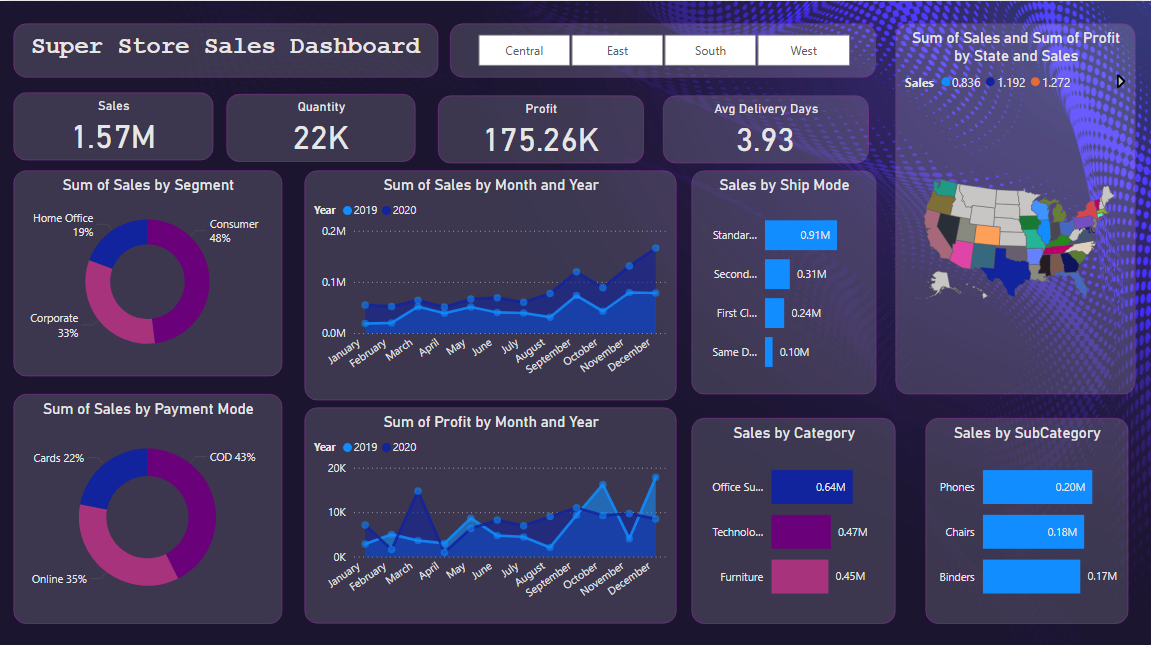

This screenshot's page, from the dashboard's own definition file:
{"tool":"powerbi","page":{"name":"Page 1","canvas":[1280,720],"ordinal":0},"visuals":[{"type":"clusteredBarChart","title":" Sales by Category","fields":{"Category":["SuperStore_Sales_Dataset.Category"],"Y":["Sum(SuperStore_Sales_Dataset.Sales)"]},"box":[768.3,463.3,226.7,228.3],"z":0},{"type":"clusteredBarChart","title":" Sales by SubCategory","fields":{"Category":["SuperStore_Sales_Dataset.Sub-Category"],"Y":["Sum(SuperStore_Sales_Dataset.Sales)"]},"box":[1028.3,463.3,225,228.3],"z":1000},{"type":"clusteredBarChart","title":" Sales by Ship Mode","fields":{"Category":["SuperStore_Sales_Dataset.Ship Mode"],"Y":["Sum(SuperStore_Sales_Dataset.Sales)"]},"box":[768.3,188.3,205,248.3],"z":2000},{"type":"areaChart","fields":{"Category":["SuperStore_Sales_Dataset.Order Date.Variation.Date Hierarchy.Month","SuperStore_Sales_Dataset.Order Date.Variation.Date Hierarchy.Day"],"Series":["SuperStore_Sales_Dataset.Order Date.Variation.Date Hierarchy.Year"],"Y":["Sum(SuperStore_Sales_Dataset.Sales)"]},"box":[338.3,188.3,413.3,255],"z":3000},{"type":"shapeMap","fields":{"Category":["SuperStore_Sales_Dataset.State"],"Value":["Sum(SuperStore_Sales_Dataset.Sales)"],"Series":["SuperStore_Sales_Dataset.Sales"]},"box":[995,25,266.7,411.7],"z":4000},{"type":"donutChart","fields":{"Category":["SuperStore_Sales_Dataset.Segment"],"Y":["Sum(SuperStore_Sales_Dataset.Sales)"]},"box":[15,188.3,298.3,228.3],"z":5000},{"type":"donutChart","fields":{"Category":["SuperStore_Sales_Dataset.Payment Mode"],"Y":["Sum(SuperStore_Sales_Dataset.Sales)"]},"box":[15,436.7,298.3,255],"z":6000},{"type":"slicer","fields":{"Values":["SuperStore_Sales_Dataset.Region"]},"box":[500,25,473.3,60],"z":7000},{"type":"textbox","box":[15,25,471.7,60],"z":8000},{"type":"card","title":"Sales","fields":{"Values":["Sum(SuperStore_Sales_Dataset.Sales)"]},"box":[15,101.7,221.7,75],"z":9000},{"type":"card","title":"Quantity","fields":{"Values":["Sum(SuperStore_Sales_Dataset.Quantity)"]},"box":[251.7,103.3,210,75],"z":10000},{"type":"card","title":"Profit","fields":{"Values":["Sum(SuperStore_Sales_Dataset.Profit)"]},"box":[486.7,105,228.3,75],"z":11000},{"type":"card","title":"Avg Delivery Days","fields":{"Values":["Avg(SuperStore_Sales_Dataset.AvgDelivery)"]},"box":[736.7,105,228.3,75],"z":12000},{"type":"areaChart","fields":{"Category":["SuperStore_Sales_Dataset.Order Date.Variation.Date Hierarchy.Month","SuperStore_Sales_Dataset.Order Date.Variation.Date Hierarchy.Day"],"Series":["SuperStore_Sales_Dataset.Order Date.Variation.Date Hierarchy.Year"],"Y":["Sum(SuperStore_Sales_Dataset.Profit)"]},"box":[338.3,451.7,413.3,240],"z":13000}]}

Visuals, with their boxes in screenshot pixels (x1, y1, x2, y2), scaled from the page's 1280x720 canvas onto the 1151x645 screenshot:
" Sales by Category" clusteredBarChart: l=691, t=415, r=895, b=620
" Sales by SubCategory" clusteredBarChart: l=925, t=415, r=1127, b=620
" Sales by Ship Mode" clusteredBarChart: l=691, t=169, r=875, b=391
areaChart - SuperStore_Sales_Dataset.Order Date.Variation.Date Hierarchy.Month x SuperStore_Sales_Dataset.Order Date.Variation.Date Hierarchy.Day: l=304, t=169, r=676, b=397
shapeMap - SuperStore_Sales_Dataset.State x Sum(SuperStore_Sales_Dataset.Sales): l=895, t=22, r=1135, b=391
donutChart - SuperStore_Sales_Dataset.Segment x Sum(SuperStore_Sales_Dataset.Sales): l=13, t=169, r=282, b=373
donutChart - SuperStore_Sales_Dataset.Payment Mode x Sum(SuperStore_Sales_Dataset.Sales): l=13, t=391, r=282, b=620
slicer - SuperStore_Sales_Dataset.Region: l=450, t=22, r=875, b=76
textbox: l=13, t=22, r=438, b=76
"Sales" card: l=13, t=91, r=213, b=158
"Quantity" card: l=226, t=93, r=415, b=160
"Profit" card: l=438, t=94, r=643, b=161
"Avg Delivery Days" card: l=662, t=94, r=868, b=161
areaChart - SuperStore_Sales_Dataset.Order Date.Variation.Date Hierarchy.Month x SuperStore_Sales_Dataset.Order Date.Variation.Date Hierarchy.Day: l=304, t=405, r=676, b=620
